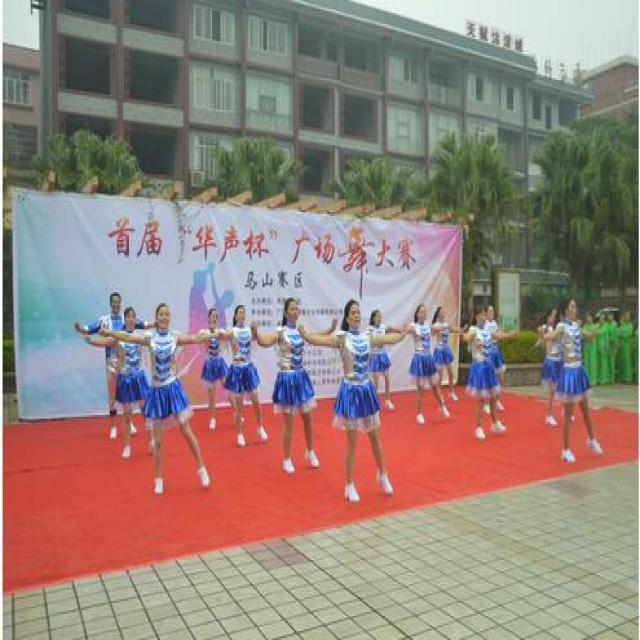non-fight: (300, 296, 406, 502), (104, 300, 208, 493), (250, 300, 336, 475), (542, 294, 600, 461), (454, 305, 514, 439)
